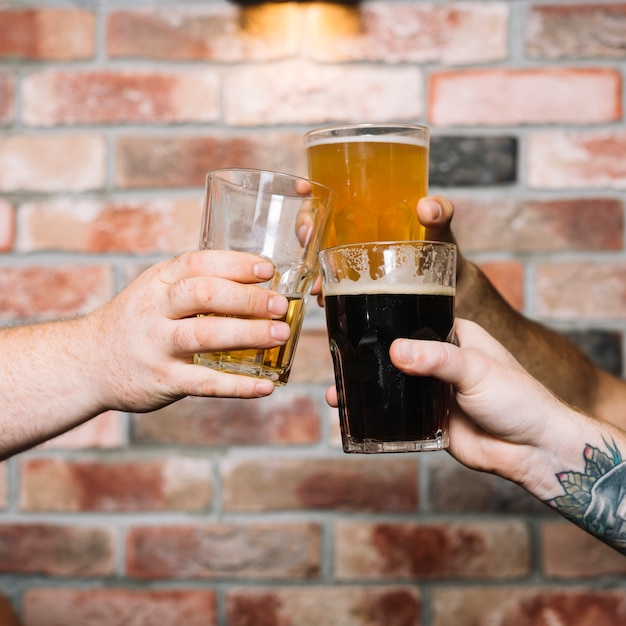alcohol: (191, 165, 332, 390), (319, 242, 465, 456), (299, 125, 433, 307)
